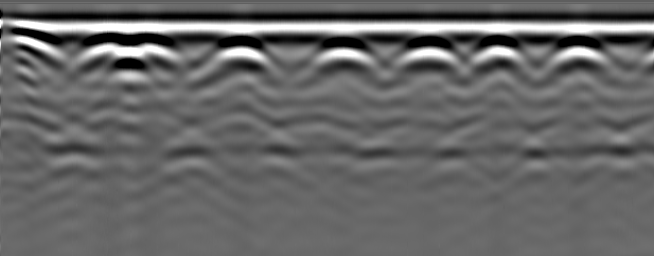pipe: (1, 24, 59, 45)
steel: (399, 37, 458, 76), (211, 39, 272, 76), (314, 39, 371, 75), (550, 37, 607, 70), (135, 34, 179, 73), (474, 39, 523, 74), (85, 35, 128, 69)
